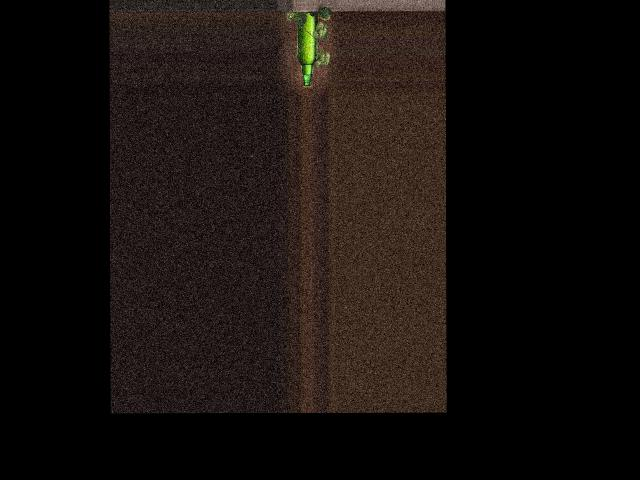beer: (296, 10, 316, 88)
